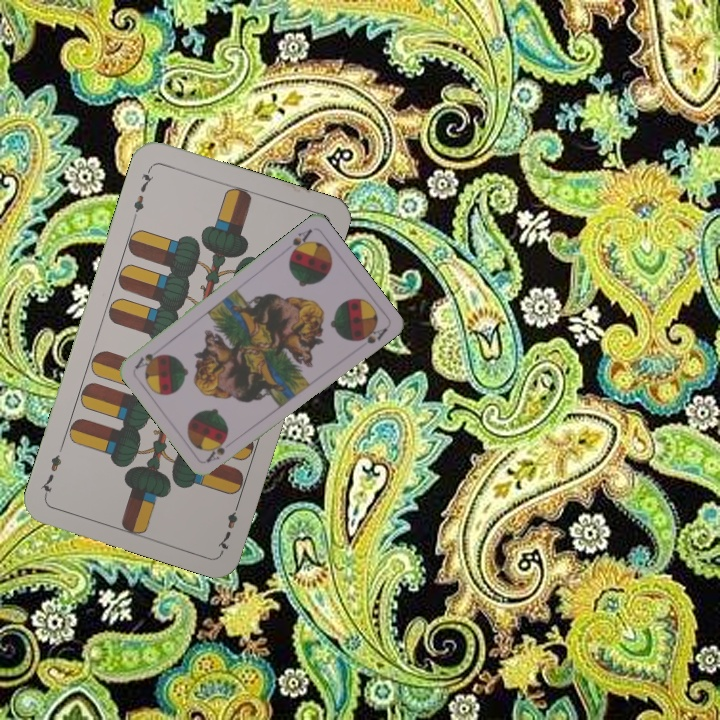E7: (213, 496, 243, 554), (129, 164, 157, 222)
SA: (285, 224, 315, 260), (203, 437, 229, 464)
